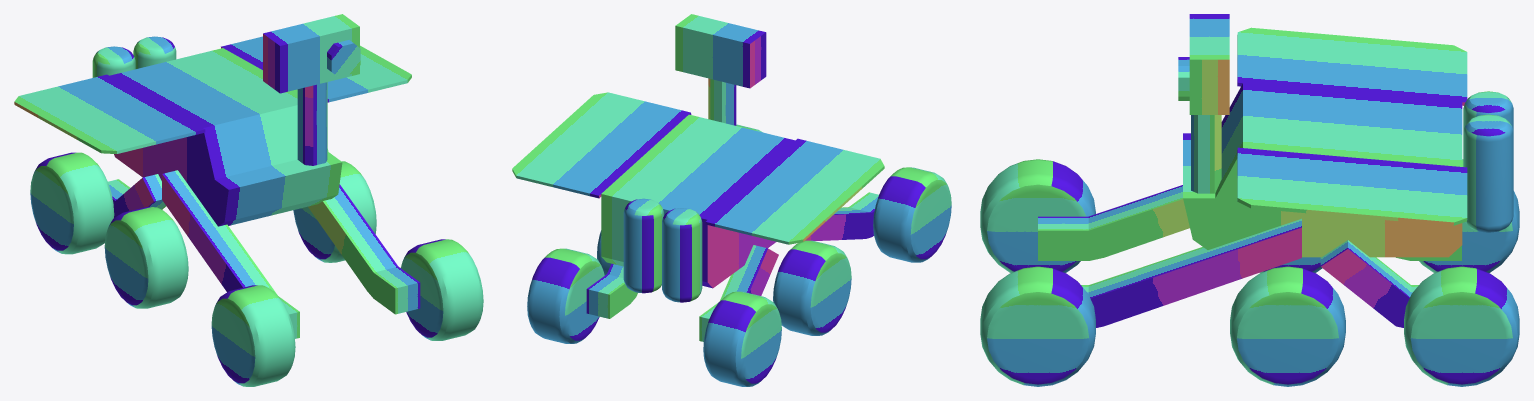
Rendered from roveer.fbx.
3 views of the same model, side by side, from view 1: azimuth 30°, elevation 25°; view 2: azimuth 150°, elevation 25°; view 3: azimuth 270°, elevation 25° (orthographic). The views are drawn at different scales.
Visible parts, largest first — view 1: pCube454, pCube463, pCylinder2, pCylinder5, pCylinder3, pCylinder1, pCube456, pCube455, pCube459, pCube462, pCylinder6, pCube461 (+3 smaller); view 2: pCube454, pCube463, pCube462, pCylinder9, pCylinder2, pCylinder3, pCylinder5, pCylinder4, pCube459, pCube455, pCube457, pCube458 (+1 smaller); view 3: pCube454, pCube462, pCube463, pCylinder1, pCylinder4, pCylinder6, pCube456, pCylinder2, pCube455, pCylinder9, pCube459, pCube458 (+3 smaller).
Part boxes in pixels (box(x1,y1,x2,y2)): pCube454: box(109, 48, 342, 226); pCube463: box(14, 74, 205, 153); pCylinder2: box(211, 285, 295, 386); pCylinder5: box(104, 207, 188, 308); pCylinder3: box(30, 152, 114, 254); pCylinder1: box(401, 239, 483, 340); pCube456: box(308, 184, 420, 314); pCube455: box(162, 170, 299, 338); pCube459: box(263, 14, 359, 93); pCube462: box(221, 36, 411, 102); pCylinder6: box(293, 161, 376, 262); pCube461: box(297, 82, 327, 165); pCube454: box(601, 114, 794, 288); pCube463: box(705, 138, 884, 244); pCube462: box(512, 92, 691, 198); pCylinder9: box(623, 198, 702, 302); pCylinder2: box(873, 167, 951, 262); pCylinder3: box(703, 291, 781, 386); pCylinder5: box(773, 240, 851, 335); pCylinder4: box(527, 248, 604, 343); pCube459: box(675, 14, 766, 88); pCube455: box(805, 192, 878, 240); pCube457: box(699, 245, 778, 341); pCube458: box(586, 263, 637, 318); pCube454: box(1183, 83, 1462, 257); pCube462: box(1237, 147, 1467, 225); pCube463: box(1237, 27, 1467, 105); pCylinder1: box(980, 266, 1095, 386); pCylinder4: box(1404, 266, 1519, 386); pCylinder6: box(1230, 266, 1345, 386); pCube456: box(1081, 218, 1301, 327); pCylinder2: box(980, 159, 1095, 272); pCube455: box(1038, 185, 1189, 260); pCylinder9: box(1463, 91, 1513, 232); pCube459: box(1189, 14, 1229, 114); pCube458: box(1320, 240, 1418, 327).
Bounding box in the file's own units: 0.624 × 0.5092 × 0.8032.
Materials: 1 (1 with a texture image).
